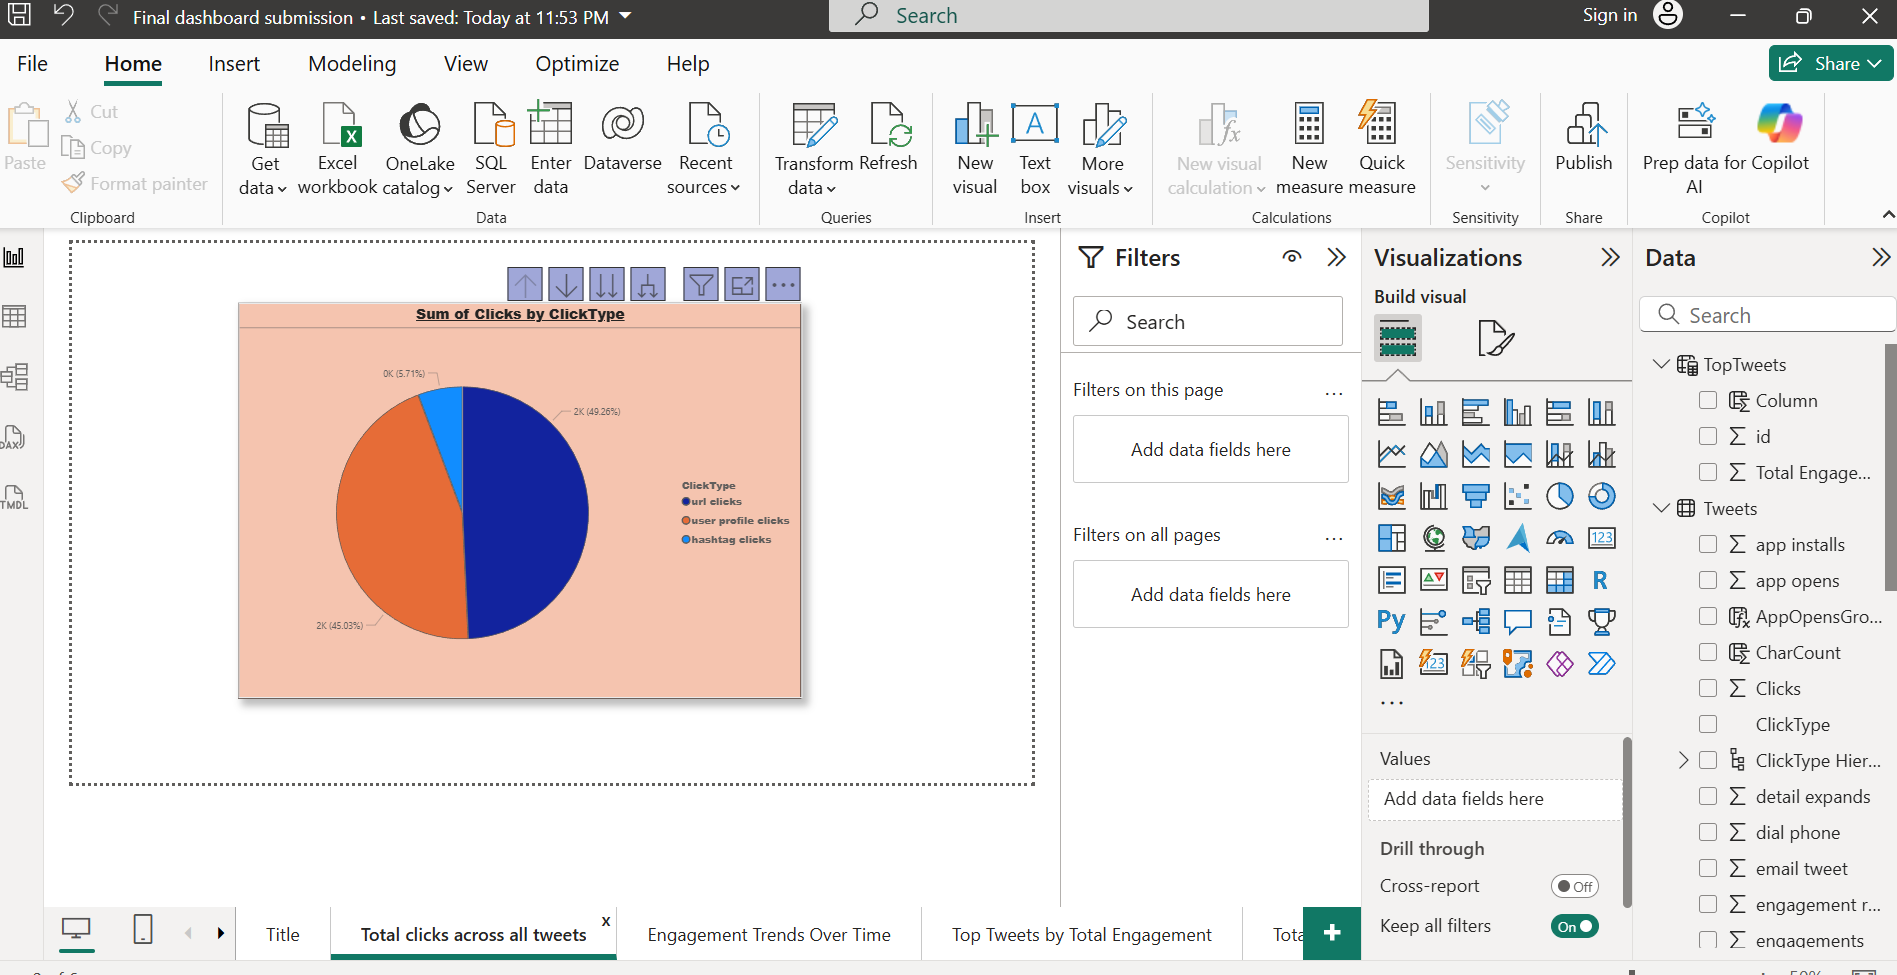

What the dashboard file says about the page in this screenshot:
{"tool":"powerbi","page":{"name":"Total clicks across all tweets","canvas":[1280,720],"ordinal":1},"visuals":[{"type":"pieChart","fields":{"Y":["Sum(Tweets.Clicks)"],"Category":["Tweets.ClickType Hierarchy.ClickType","Tweets.ClickType Hierarchy.Tweet"]},"box":[223,79.4,750.2,527.2],"z":0}]}

Visuals, with their boxes on the page's 1280x720 design canvas (x1, y1, x2, y2). These are canvas units, not pixel positions in the 1897x975 screenshot, which may show the page scaled, cropped or inside an application window:
pieChart - Sum(Tweets.Clicks) x Tweets.ClickType Hierarchy.ClickType: 223:79:973:607
